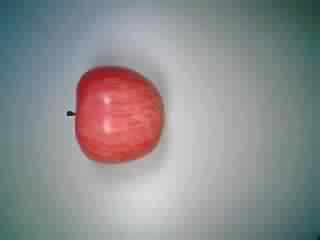apple: (65, 65, 170, 167)
